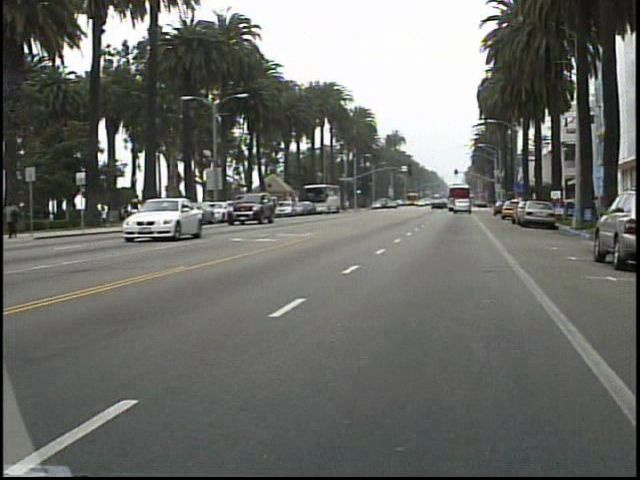person: (9, 195, 31, 240), (136, 189, 155, 224)
